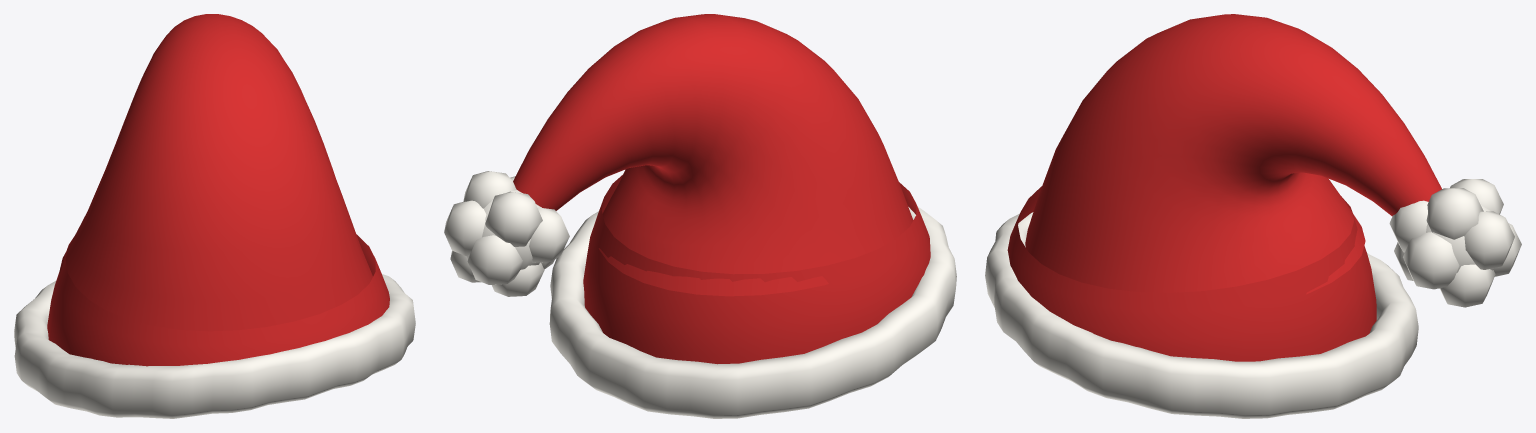
Rendered from hat_santa.glb.
The picture shows the model from 3 angles, left to right: view 1: azimuth 30°, elevation 25°; view 2: azimuth 150°, elevation 25°; view 3: azimuth 270°, elevation 25°; orthographic projection. The views are drawn at different scales.
Visible parts, largest first — view 1: HatSanta; view 2: HatSanta; view 3: HatSanta.
Boxes of the visible parts, x1,y1,x2,y2 form: HatSanta: (14, 14, 415, 418); HatSanta: (444, 14, 956, 418); HatSanta: (985, 14, 1521, 418).
Bounding box in the file's own units: 0.5997 × 0.5269 × 0.7469.
